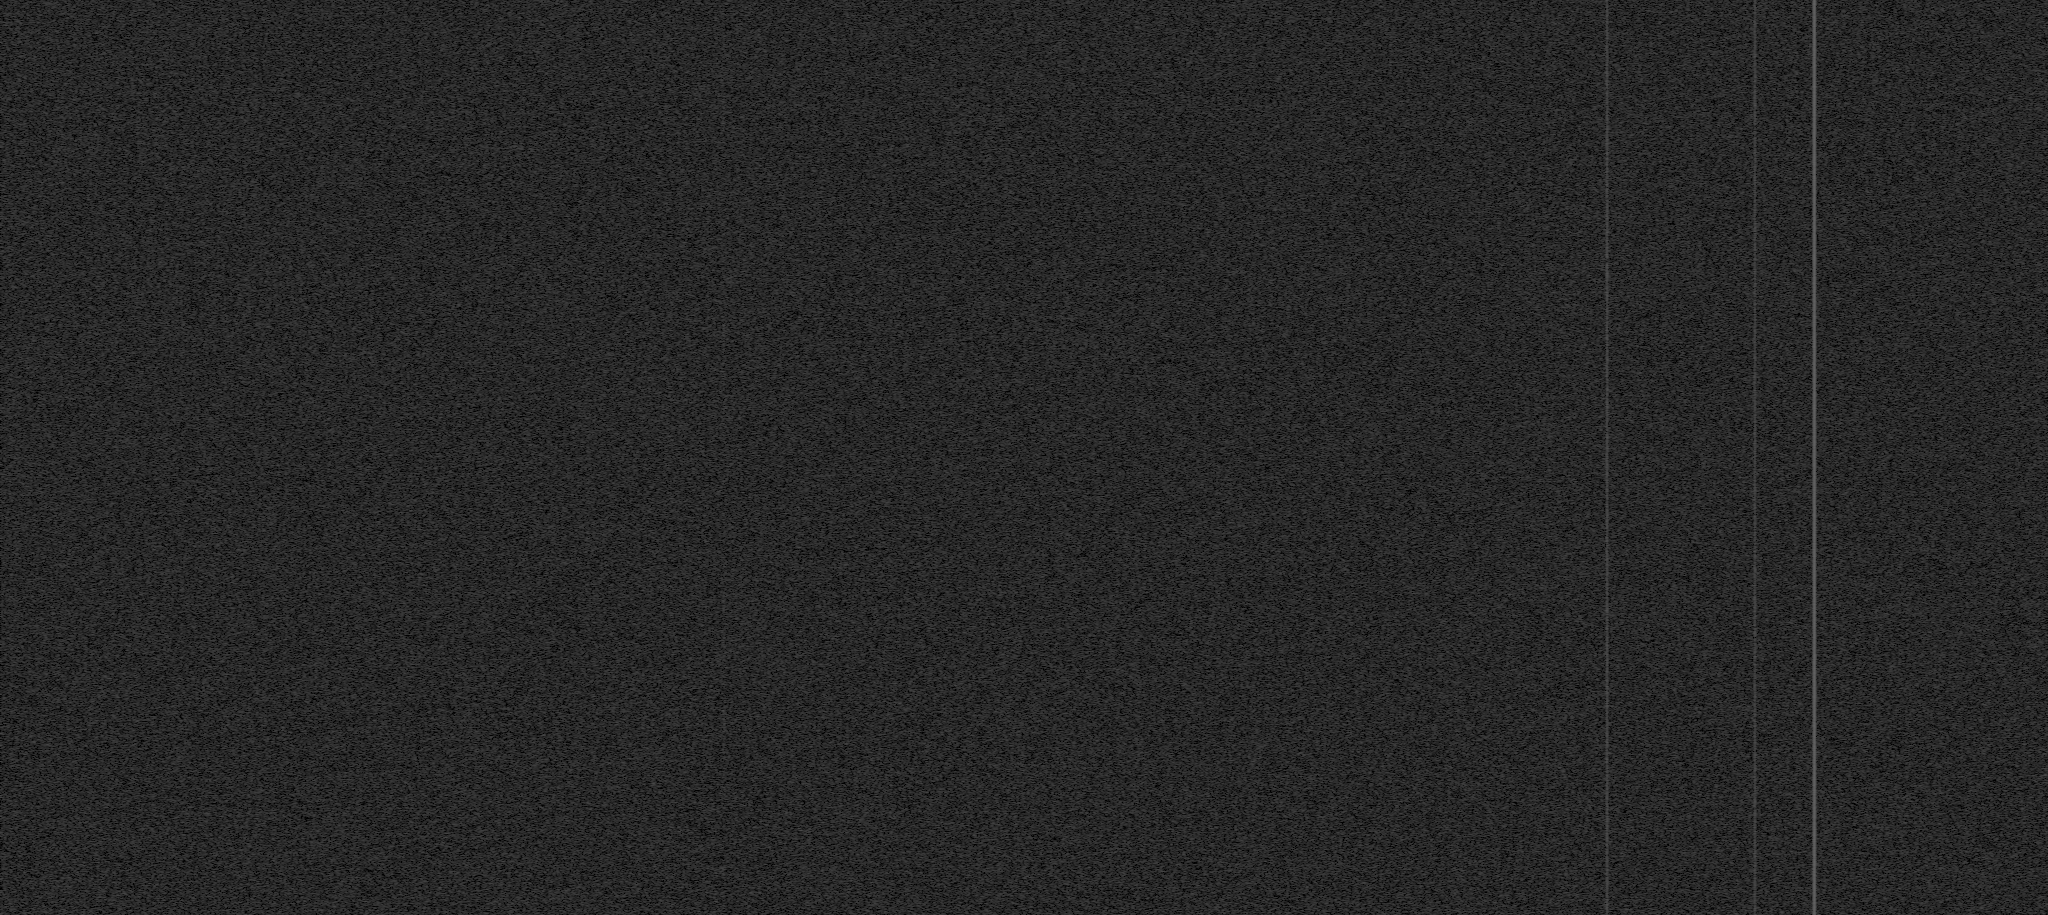wv_am: (1605, 0, 1610, 915)
wv_cw: (1812, 0, 1817, 915), (1753, 0, 1757, 915)
wv_usb: (721, 705, 726, 761), (721, 321, 726, 359), (722, 42, 726, 81), (722, 448, 726, 479), (722, 762, 726, 792), (722, 593, 726, 620), (722, 7, 726, 33), (722, 127, 726, 151), (722, 621, 726, 642), (722, 94, 726, 115), (722, 677, 726, 697), (722, 814, 726, 834), (722, 865, 726, 882), (722, 249, 726, 262), (722, 373, 726, 385), (722, 204, 726, 215), (722, 846, 726, 858), (722, 882, 726, 893), (722, 902, 726, 911), (722, 411, 726, 420), (722, 116, 726, 125), (722, 835, 726, 845), (722, 805, 726, 814), (722, 649, 726, 657), (722, 264, 726, 271), (722, 217, 726, 225), (722, 539, 725, 550), (722, 393, 726, 399), (722, 231, 726, 238), (722, 159, 726, 166), (722, 82, 726, 89), (722, 520, 725, 529), (722, 796, 726, 801), (722, 698, 726, 704), (722, 667, 726, 672), (722, 565, 725, 573), (722, 480, 726, 486), (722, 405, 726, 410), (722, 386, 726, 392), (722, 281, 726, 286), (722, 225, 726, 230), (722, 574, 725, 581), (722, 512, 725, 518), (724, 302, 726, 308), (722, 859, 725, 865), (722, 504, 726, 508), (722, 436, 726, 440), (722, 309, 726, 313), (722, 291, 726, 295), (722, 244, 726, 248), (722, 191, 726, 194), (722, 37, 726, 40), (722, 185, 725, 191), (722, 167, 725, 172), (722, 559, 725, 563), (722, 553, 725, 557), (722, 489, 725, 493), (722, 365, 725, 369), (722, 90, 726, 93), (722, 912, 725, 915), (722, 441, 725, 444), (722, 422, 725, 424), (722, 287, 725, 290)
